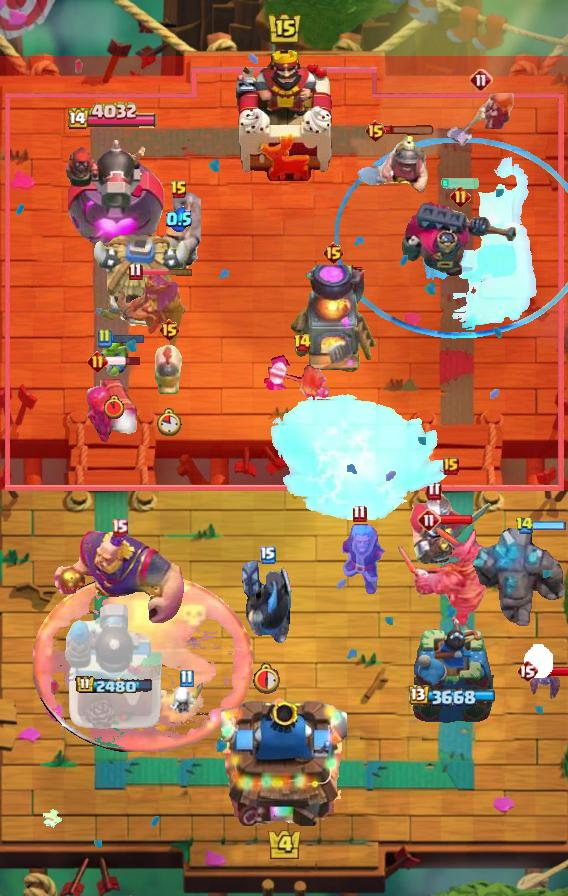bandit: (356, 135, 428, 201)
barbarian-barrel: (526, 671, 564, 699)
barbarian-hut: (108, 268, 188, 356)
cannoneer-tower: (470, 528, 568, 630)
electro-spirit: (166, 206, 192, 232)
elite-barbarian: (157, 191, 201, 277)
elixir: (253, 662, 283, 694), (524, 644, 552, 678), (158, 408, 183, 436), (104, 395, 124, 419)
emote: (384, 124, 436, 135), (140, 267, 194, 276), (106, 355, 143, 367), (110, 332, 146, 344), (438, 514, 474, 526), (532, 521, 568, 532), (536, 665, 568, 677)
executioner: (153, 344, 185, 396)
golemite: (395, 522, 495, 630)
heal-spirit: (168, 681, 205, 719)
hog-rider: (446, 91, 516, 147)
hunter: (289, 265, 377, 375)
ice-spirit: (439, 178, 481, 190)
inferno-dragon: (238, 557, 298, 651)
inferno-tower: (402, 200, 518, 278)
king-tower: (221, 690, 347, 826), (232, 45, 336, 181)
lightning: (53, 530, 188, 630)
mega-knight: (266, 391, 450, 527)
mega-minion: (83, 365, 141, 445)
mortar: (321, 522, 397, 598)
pad_0: (332, 138, 567, 340)
phoenix-egg: (33, 572, 253, 751)
prince: (89, 235, 191, 331)
queen-tower: (409, 616, 497, 731)
selected: (68, 102, 160, 132), (410, 685, 499, 708), (74, 675, 154, 697)
tesla-evolution: (263, 353, 341, 433)
text: (469, 68, 493, 92), (417, 508, 441, 532), (365, 119, 388, 143), (322, 241, 345, 265), (159, 318, 182, 342), (516, 659, 538, 683), (449, 185, 470, 207), (87, 351, 108, 373), (292, 333, 312, 353), (514, 517, 533, 536), (170, 180, 188, 200), (112, 519, 129, 538), (96, 328, 112, 348), (443, 457, 459, 475), (260, 546, 276, 564), (129, 262, 144, 281), (353, 505, 367, 524), (179, 668, 193, 687)
tower-bar: (60, 132, 167, 256), (64, 601, 164, 731)
wall-breaker-evolution: (408, 478, 494, 570)
zap: (94, 339, 134, 377)
